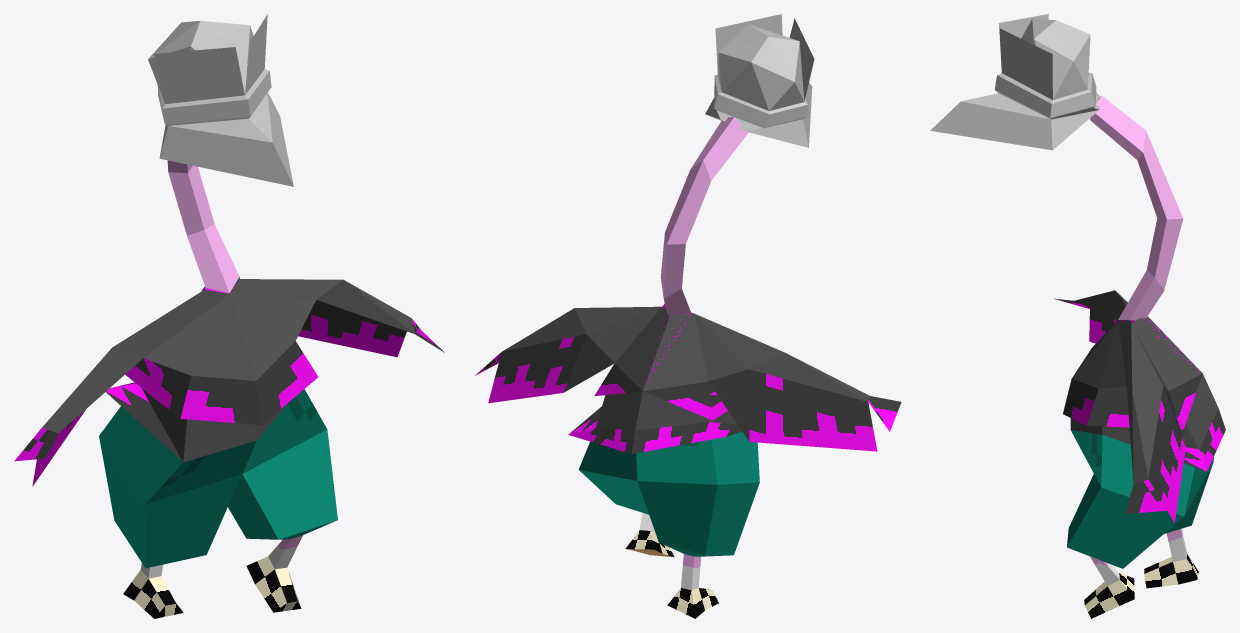
The model's file is ost33.obj.
The picture shows the model from 3 angles, left to right: view 1: azimuth 30°, elevation 25°; view 2: azimuth 150°, elevation 25°; view 3: azimuth 270°, elevation 25°; orthographic projection. The views are drawn at different scales.
Visible parts, largest first — view 1: Cube, Icosphere; view 2: Cube, Icosphere; view 3: Cube, Icosphere.
Boxes of the visible parts, x1,y1,x2,y2 form: Cube: (14,160,444,618); Icosphere: (148,14,293,186); Cube: (475,117,901,618); Icosphere: (705,14,814,147); Cube: (1054,95,1225,618); Icosphere: (930,14,1100,150).
Size of the model in its own units: 11.28 by 15.25 by 7.39.
